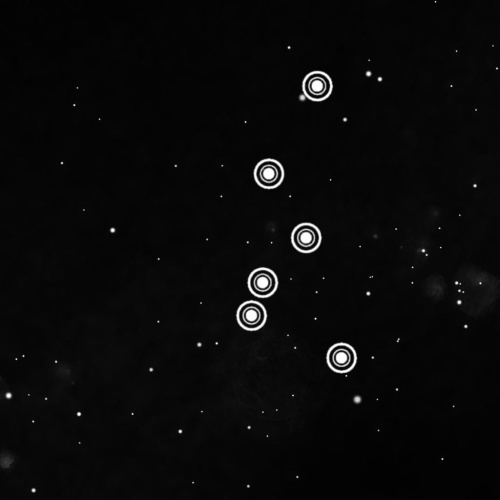cassiopeia: (230, 66, 361, 379)
